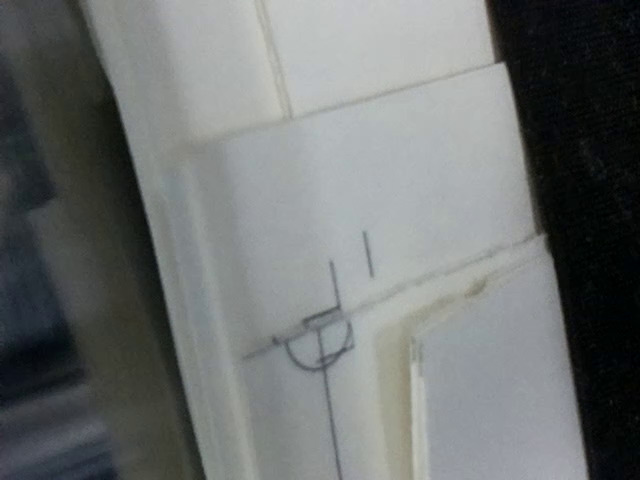misaligned: (236, 248, 366, 392)
